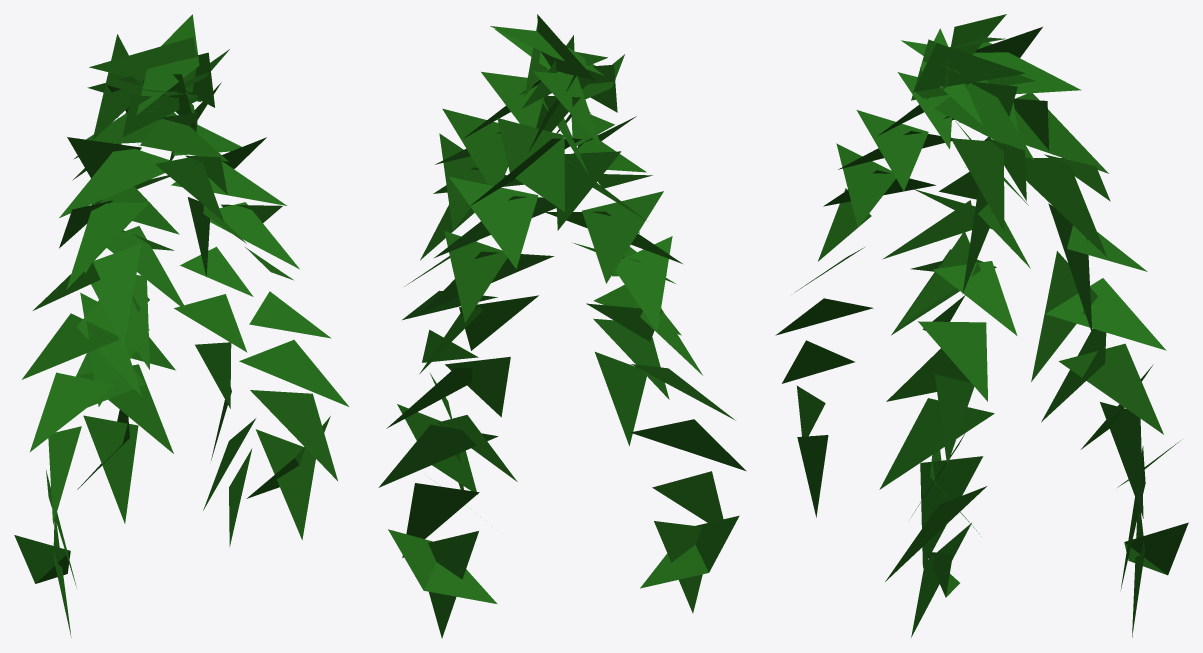
File: HangingIvy.dae
3 renders of one model, left to right at view 1: azimuth 30°, elevation 25°; view 2: azimuth 150°, elevation 25°; view 3: azimuth 270°, elevation 25°, orthographic. The views are drawn at different scales.
Parts seen in each view (by area): view 1: Plane.004; view 2: Plane.004; view 3: Plane.004.
Part boxes in pixels (box(x1,y1,x2,y2)): Plane.004: box(14, 14, 348, 636); Plane.004: box(378, 14, 746, 638); Plane.004: box(775, 14, 1188, 637).
Bounding box in the file's own units: 2.64 × 2.65 × 4.35.
